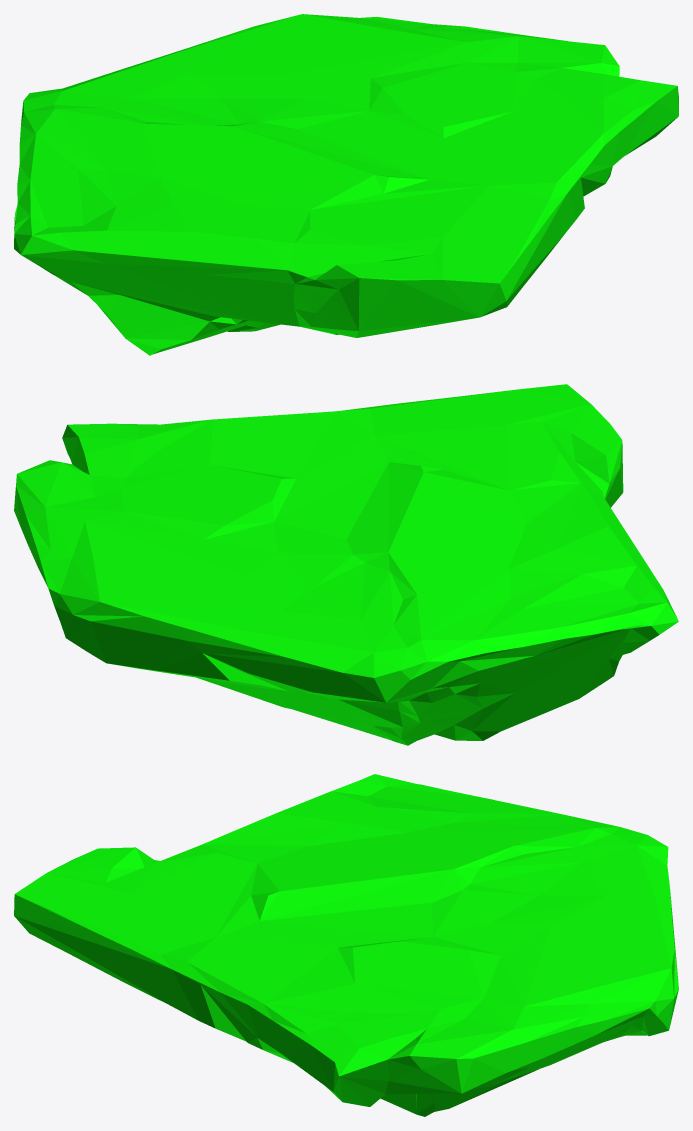
File: SM_Iceberg_Small_E_Rock.fbx
The picture shows the model from 3 angles, top to bottom: view 1: azimuth 30°, elevation 25°; view 2: azimuth 150°, elevation 25°; view 3: azimuth 270°, elevation 25°; orthographic projection.
Visible parts, largest first — view 1: SM_Iceberg_Small_E_Rock; view 2: SM_Iceberg_Small_E_Rock; view 3: SM_Iceberg_Small_E_Rock.
Part boxes in pixels (bbox=[...]): SM_Iceberg_Small_E_Rock: bbox=[14, 14, 678, 355]; SM_Iceberg_Small_E_Rock: bbox=[14, 384, 678, 745]; SM_Iceberg_Small_E_Rock: bbox=[14, 774, 678, 1116].
Bounding box in the file's own units: 10.19 × 3.08 × 9.32.
